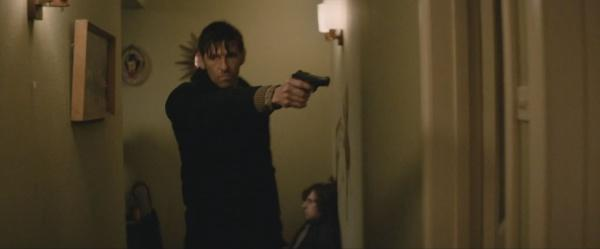Gun: (291, 70, 331, 93)
